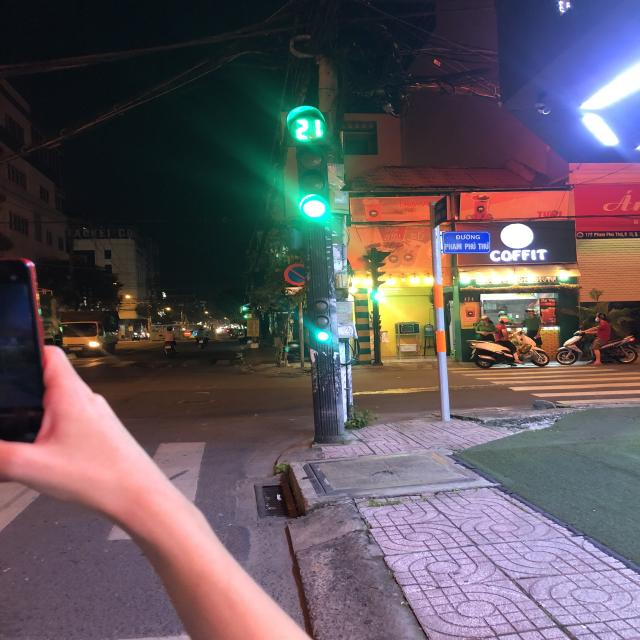Green: (291, 148, 333, 226), (308, 294, 339, 351)
